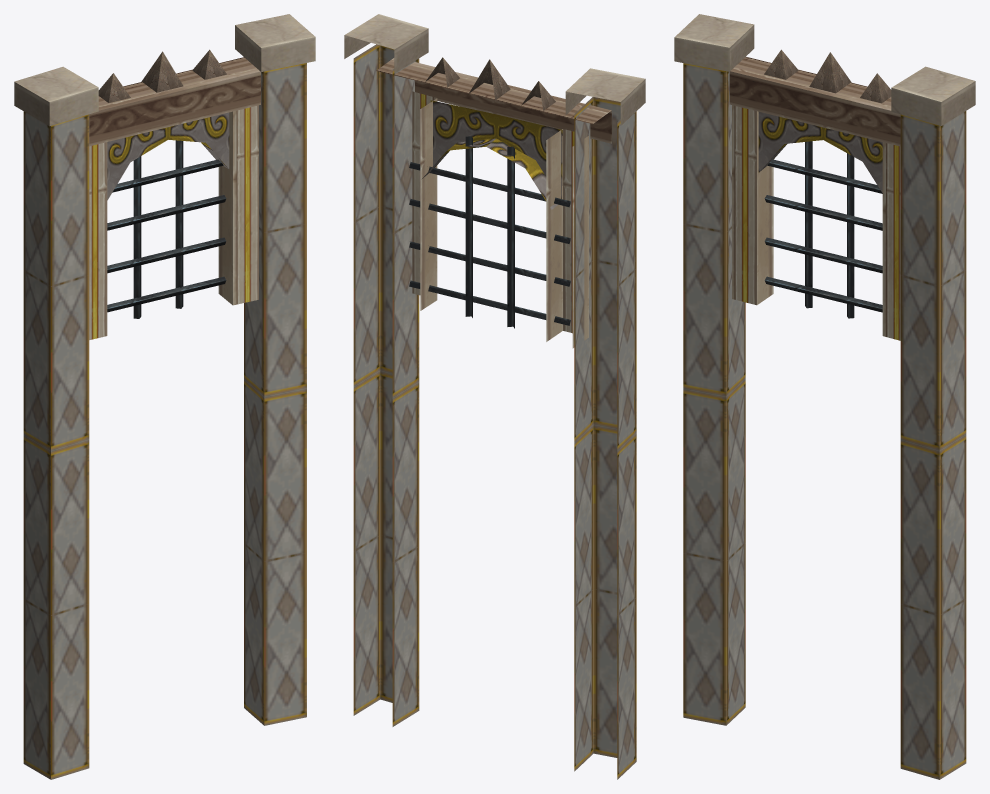
Rendered from cs_lobbynews02_jjc_weiqiang_men.FBX.
3 views of the same model, side by side, from view 1: azimuth 30°, elevation 25°; view 2: azimuth 150°, elevation 25°; view 3: azimuth 330°, elevation 25° (orthographic).
Visible parts, largest first — view 1: cs_lobbynews02_jjc_weiqiang_men; view 2: cs_lobbynews02_jjc_weiqiang_men; view 3: cs_lobbynews02_jjc_weiqiang_men.
Part boxes in pixels (box(x1,y1,x2,y2)): cs_lobbynews02_jjc_weiqiang_men: box(14, 14, 315, 779); cs_lobbynews02_jjc_weiqiang_men: box(344, 14, 645, 779); cs_lobbynews02_jjc_weiqiang_men: box(674, 14, 975, 779).
Size of the model in its own units: 460 by 1091 by 95.88.
